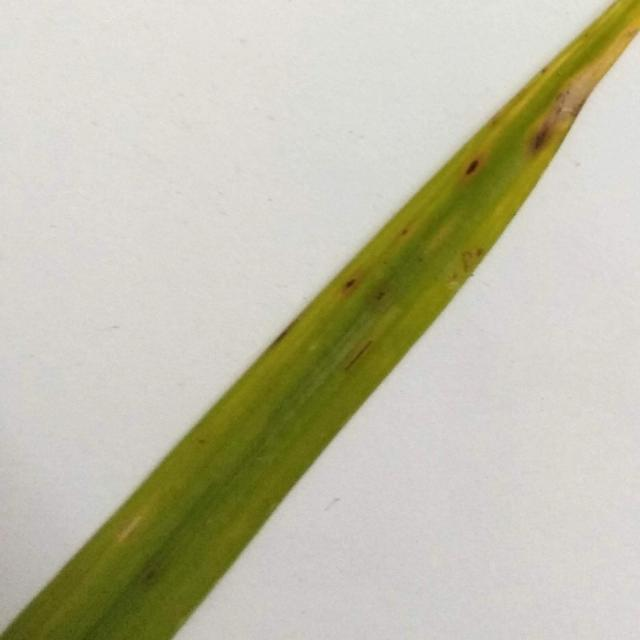Brown spot: (340, 331, 380, 376), (521, 118, 560, 162), (132, 564, 176, 596), (445, 239, 482, 270), (338, 272, 362, 308), (455, 160, 488, 182), (190, 432, 214, 452), (392, 225, 418, 240)
